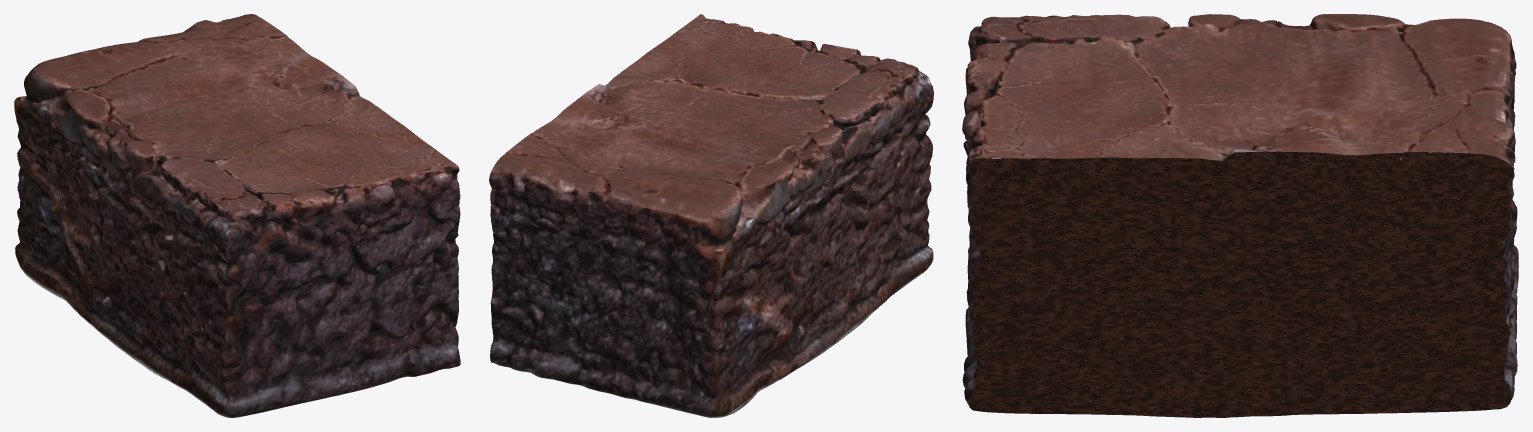
The model's file is chocolate-brownie-2.glb.
The picture shows the model from 3 angles, left to right: view 1: azimuth 30°, elevation 25°; view 2: azimuth 150°, elevation 25°; view 3: azimuth 270°, elevation 25°; orthographic projection. The views are drawn at different scales.
Visible parts, largest first — view 1: brownie-physical-calibration-80x35x65mm; view 2: brownie-physical-calibration-80x35x65mm; view 3: brownie-physical-calibration-80x35x65mm.
Part boxes in pixels (bbox=[...]): brownie-physical-calibration-80x35x65mm: bbox=[14, 14, 460, 417]; brownie-physical-calibration-80x35x65mm: bbox=[489, 14, 933, 417]; brownie-physical-calibration-80x35x65mm: bbox=[962, 14, 1518, 417].
Size of the model in its own units: 0.04 by 0.0346 by 0.065.
Materials: 2 (2 with a texture image).
